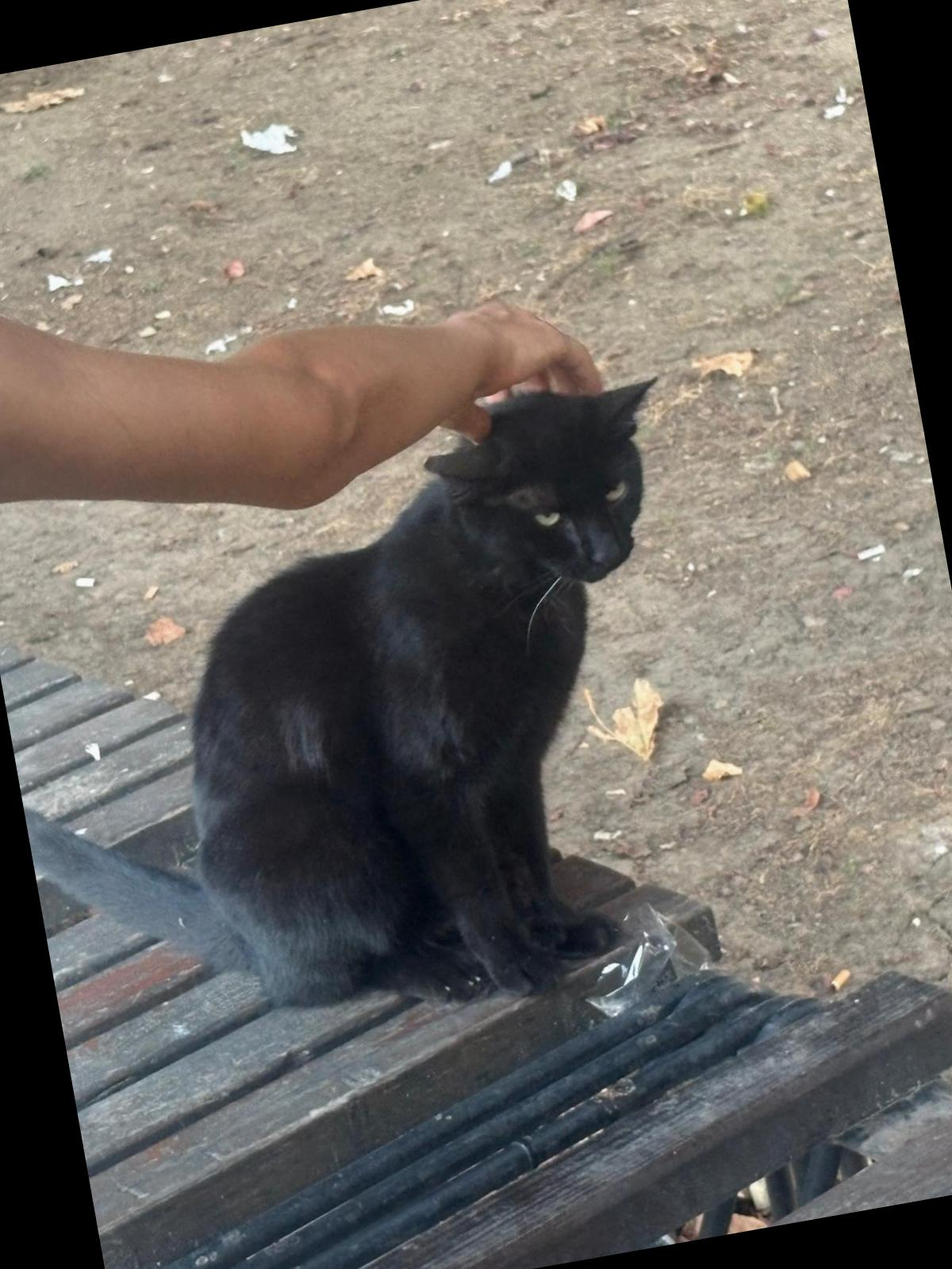macka: (0, 366, 765, 1082)
